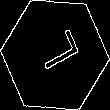L_SW: (28, 30, 82, 80)
